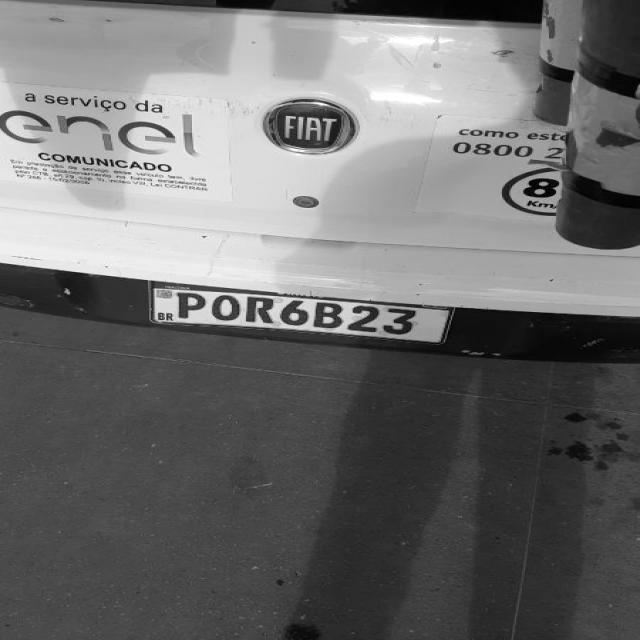placa_mercosul: (149, 281, 455, 348)
